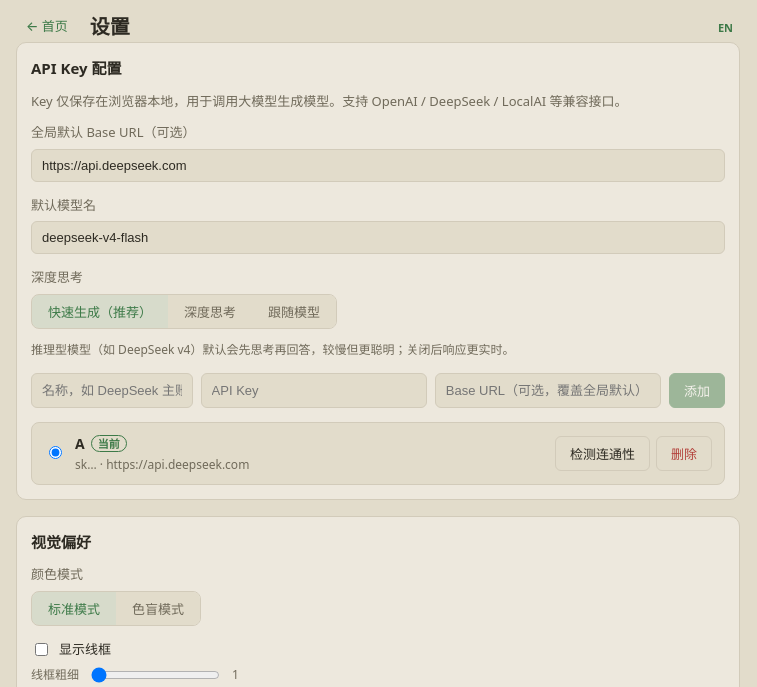
Test: SettingsPage › 连通性检测失败 → 显示失败文案
Click the button "检测连通性": [602, 453] box [555,436,650,470]
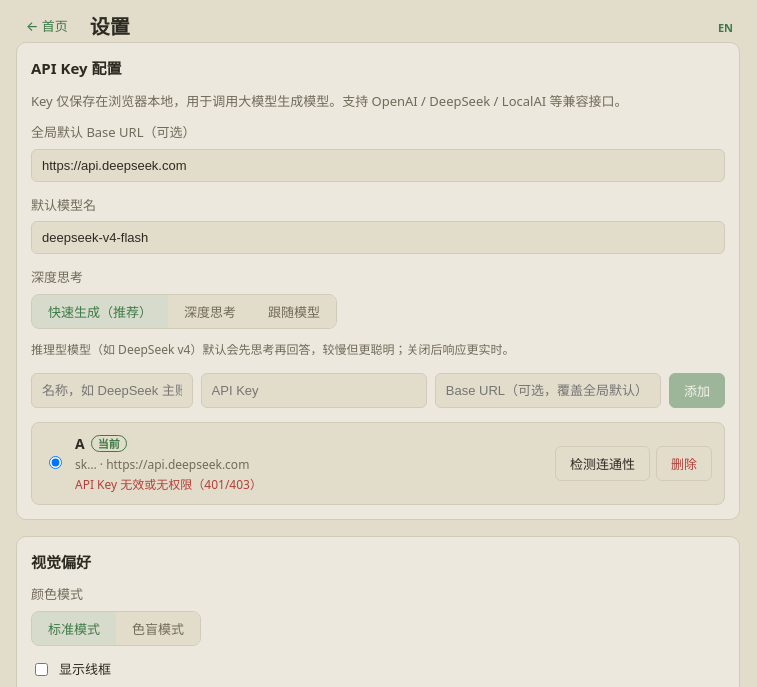
Expected: the text "API Key 无效或无权限（401/403）" is shown, [75,476,262,492]
